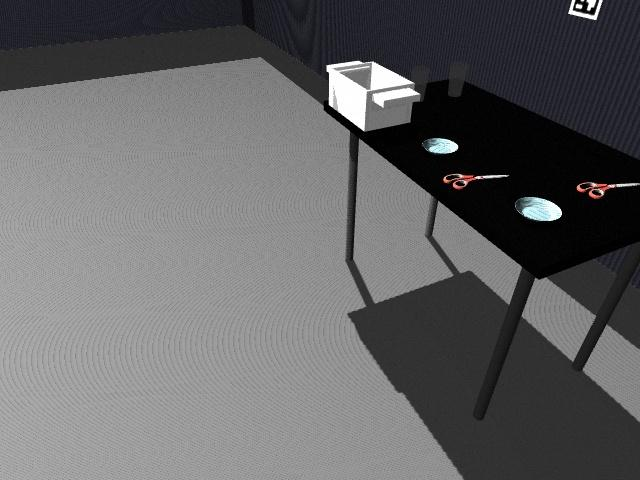cup: (448, 61, 469, 98), (410, 65, 430, 103)
plate: (514, 196, 564, 222), (421, 137, 459, 155)
scissors: (443, 170, 507, 189), (576, 180, 639, 198)
